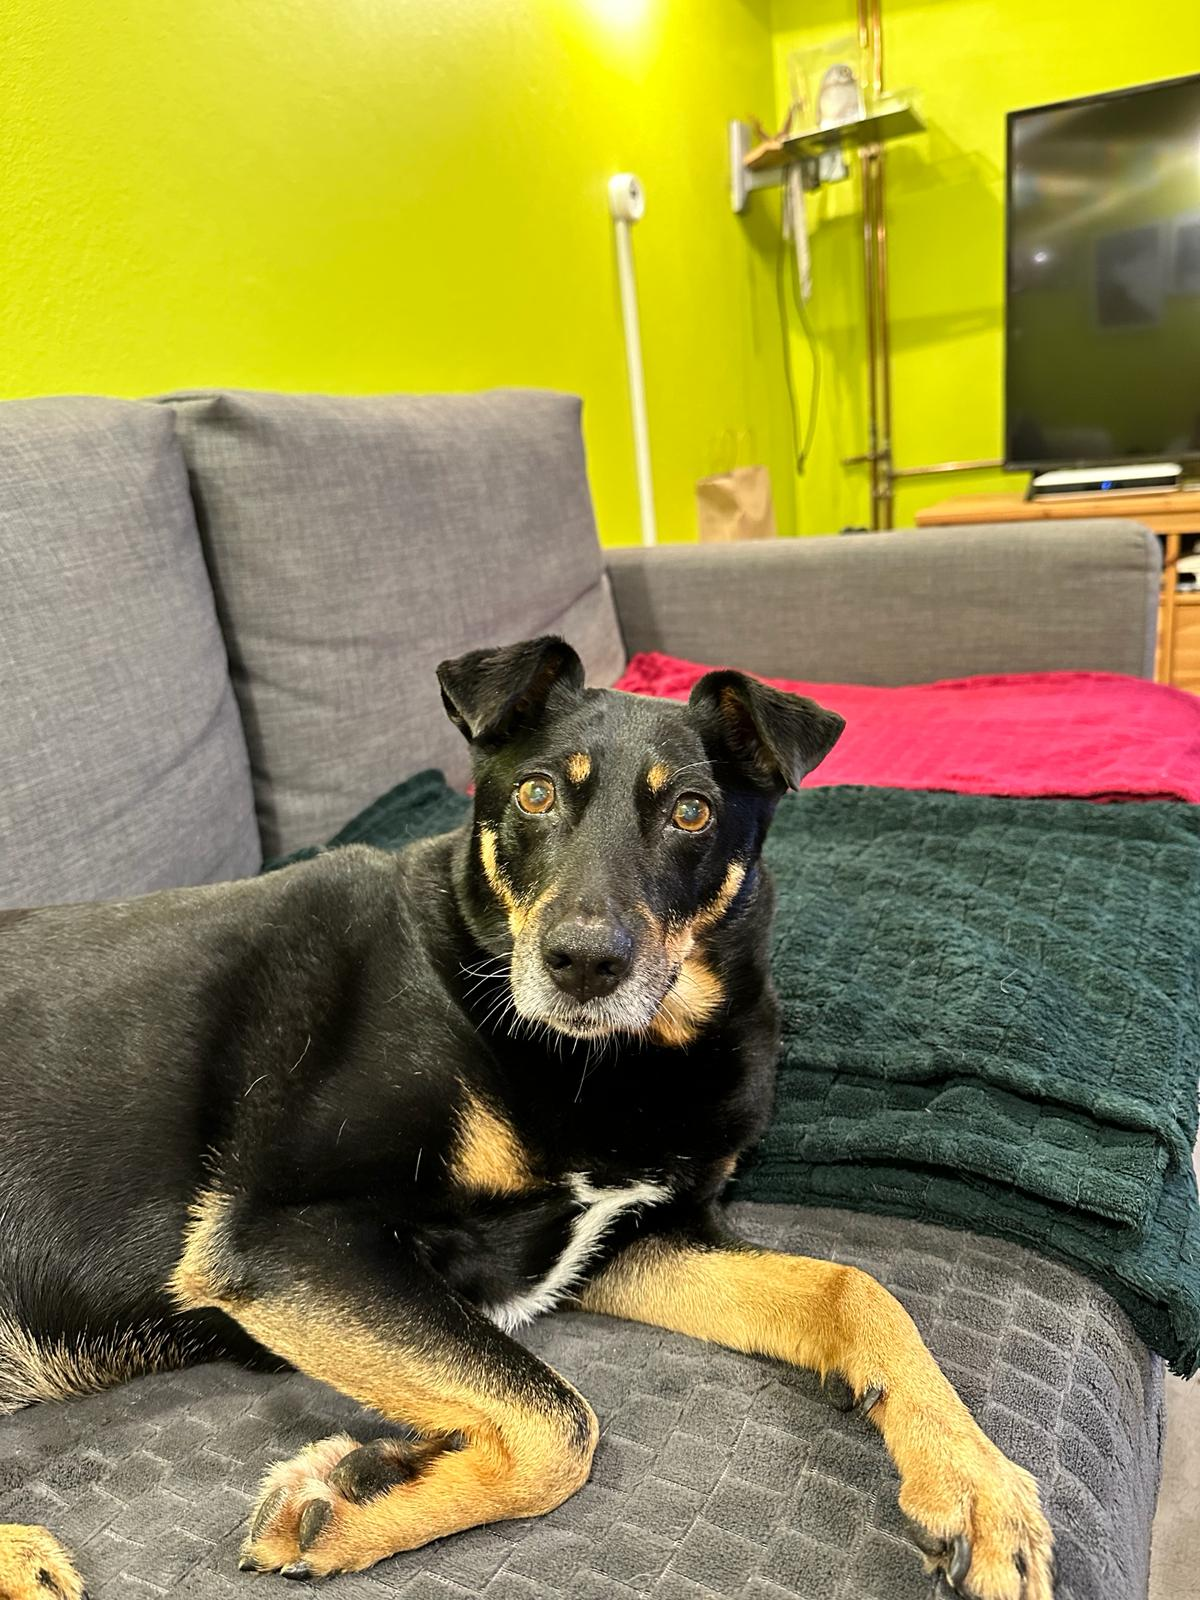reksio: (217, 520, 1070, 1579)
